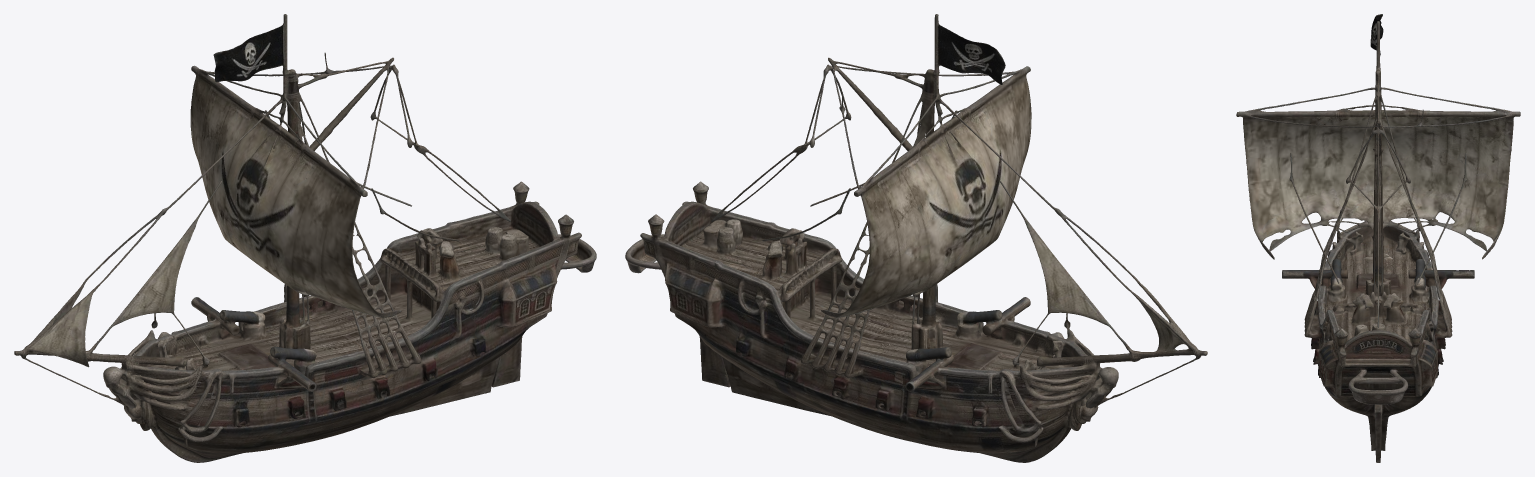
Rendered from Raider Sloop.glb.
The picture shows the model from 3 angles, left to right: view 1: azimuth 30°, elevation 25°; view 2: azimuth 150°, elevation 25°; view 3: azimuth 270°, elevation 25°; orthographic projection. The views are drawn at different scales.
Size of the model in its own units: 1.9 by 1.35 by 0.9902.
1 material, 1 textured.
